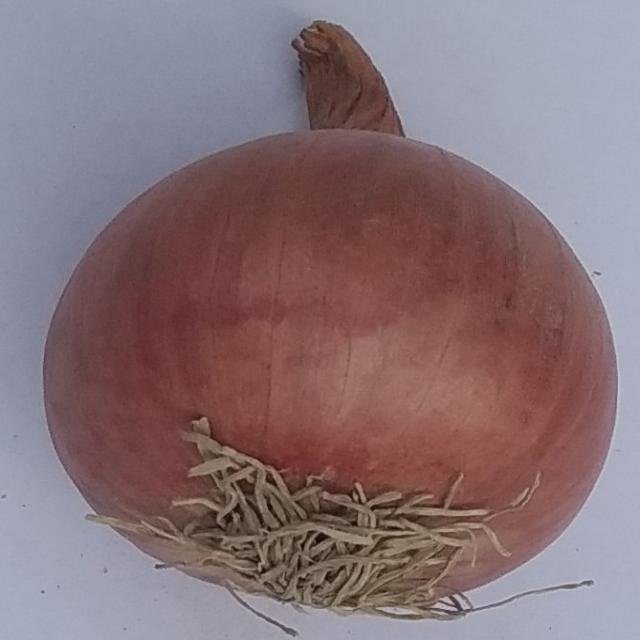onion: (38, 19, 623, 632)
